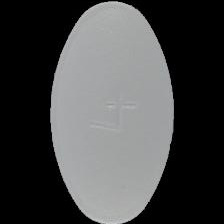61919-464: (0, 0, 224, 224)
